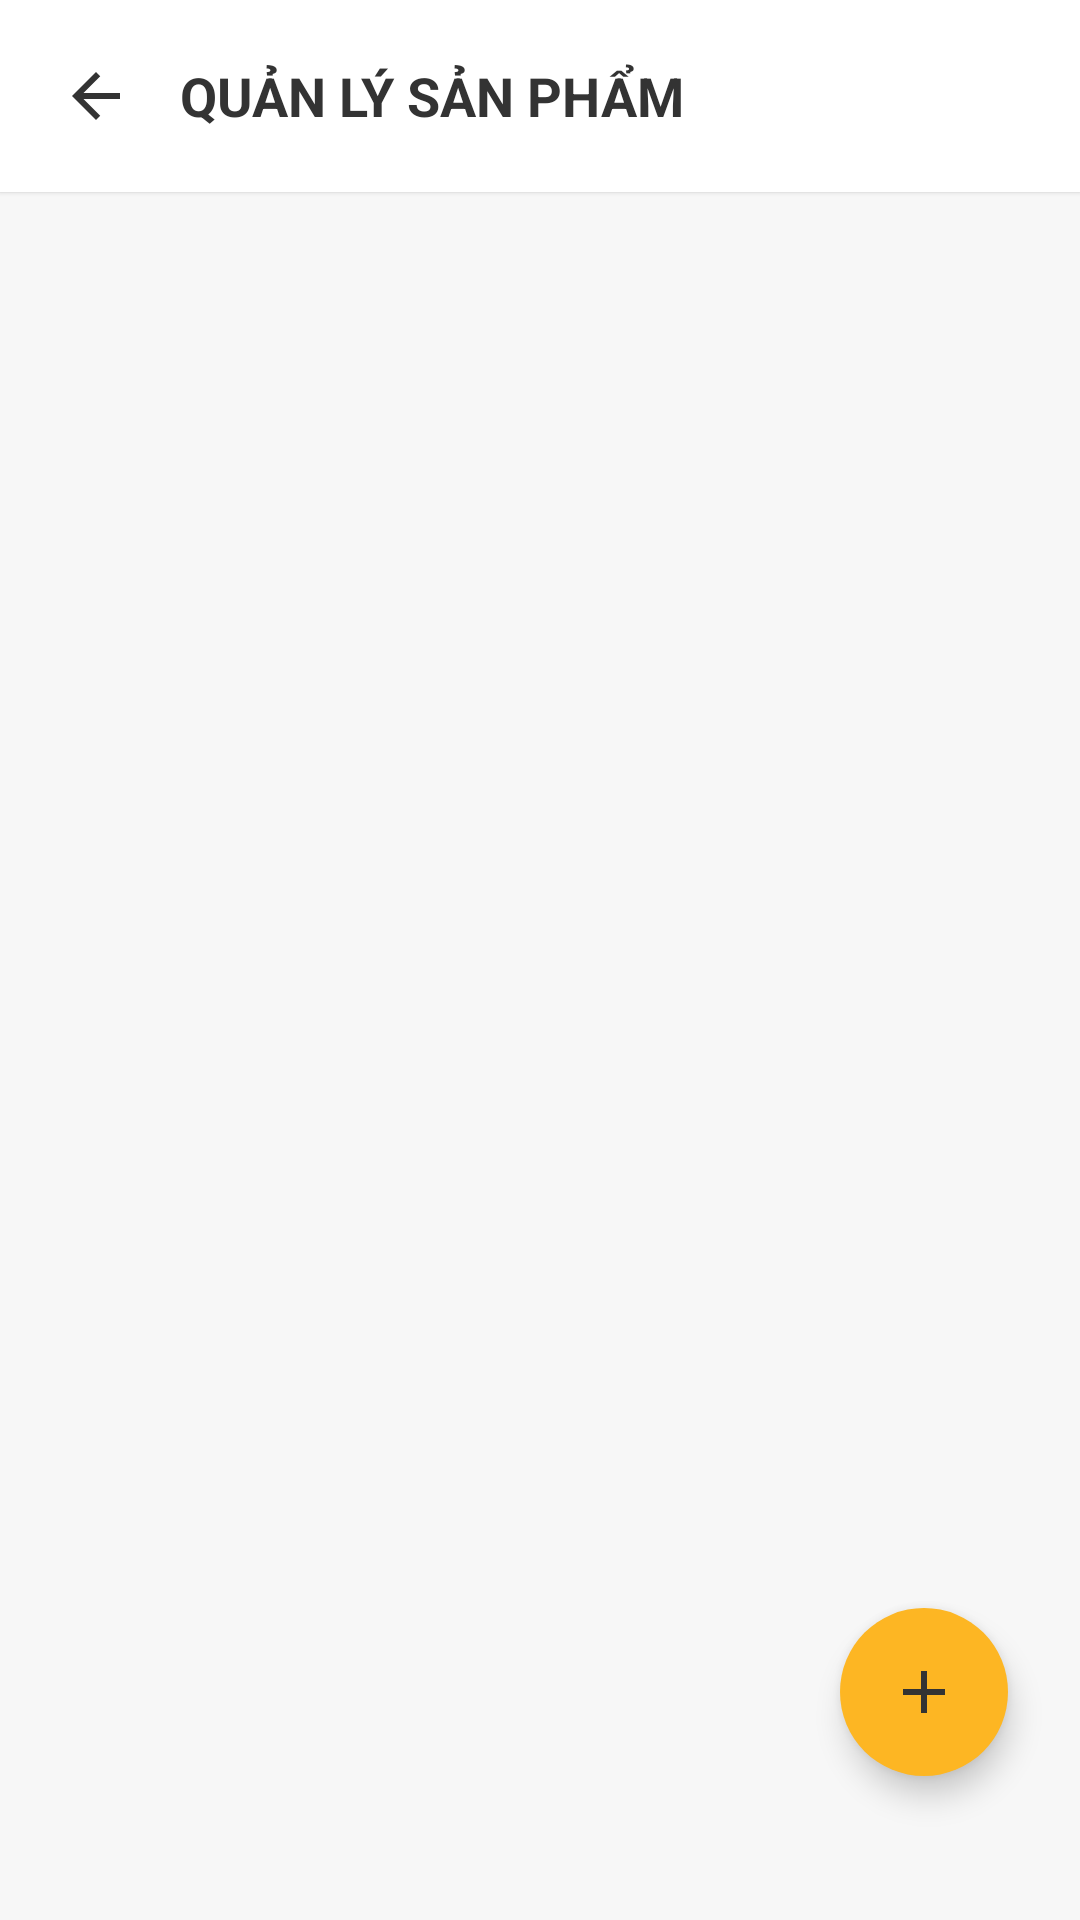

Icon bounding boxes for this 1080px x 1920px phone screenshot, format [x1, y1, x2, y2]:
arrow back: [72, 72, 120, 120]
Thêm sản phẩm: [840, 1608, 1008, 1776]
